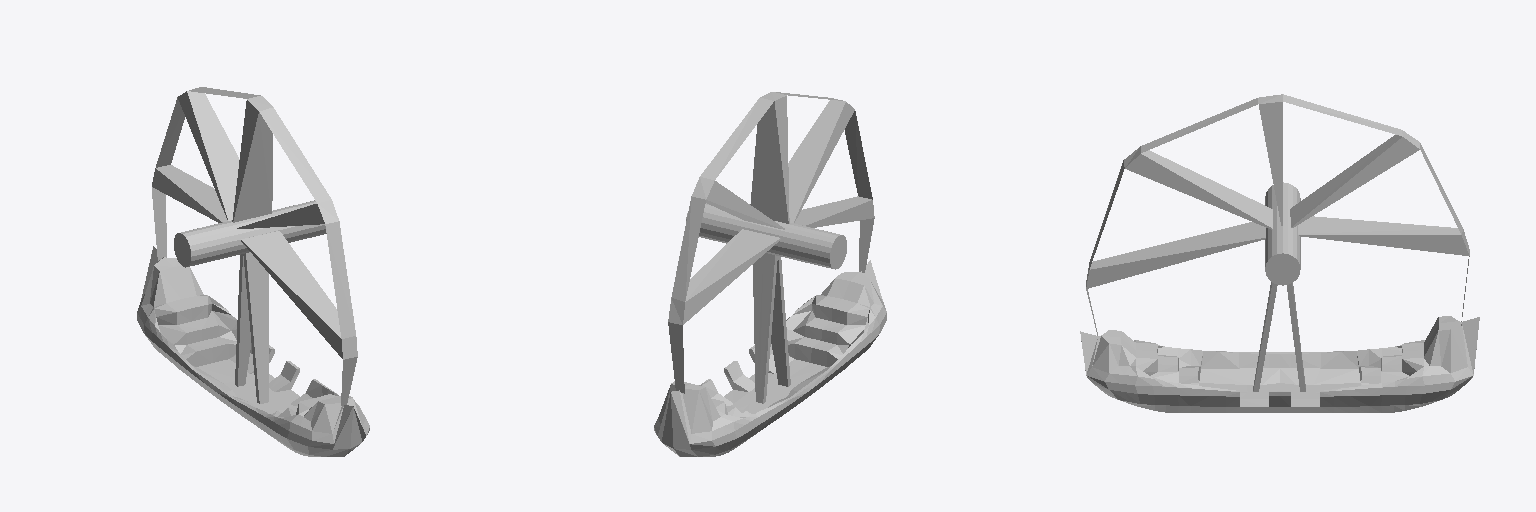
File: centroCanoa.obj
3 views of the same model, side by side, from view 1: azimuth 30°, elevation 25°; view 2: azimuth 150°, elevation 25°; view 3: azimuth 270°, elevation 25° (orthographic).
Parts seen in each view (by area): view 1: centro:pCylinder7, pCube5; view 2: centro:pCylinder7, pCube5; view 3: pCube5, centro:pCylinder7.
Boxes of the visible parts, x1,y1,x2,y2 form: centro:pCylinder7: [152, 87, 357, 405]; pCube5: [137, 246, 369, 456]; centro:pCylinder7: [668, 92, 874, 403]; pCube5: [654, 260, 886, 456]; pCube5: [1080, 316, 1479, 412]; centro:pCylinder7: [1086, 94, 1469, 391].
Bounding box in the file's own units: 9.34 × 19.55 × 22.42.